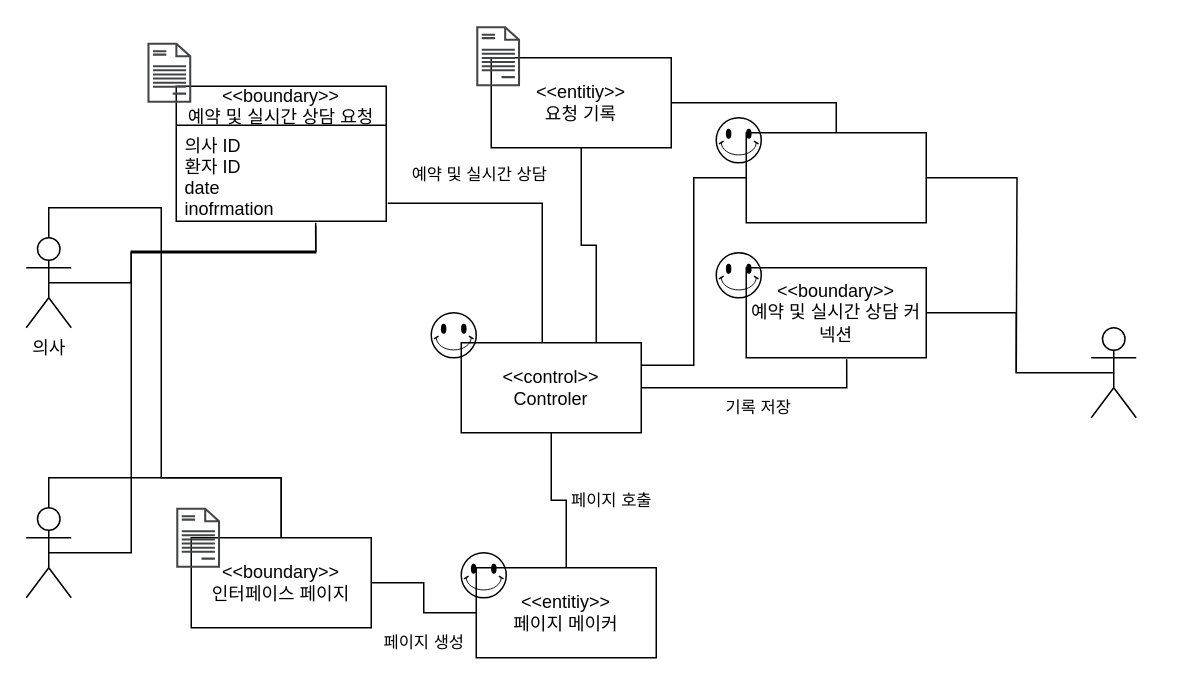
Some shapes in this 1190 by 684 pixel diagram are drawn without their labels. Each missing label, with the centre of its shape:
<<boundary>> 요청 기록 커넥션: point 835,177
데이터베이스: point 1113,372
환자: point 48,552
